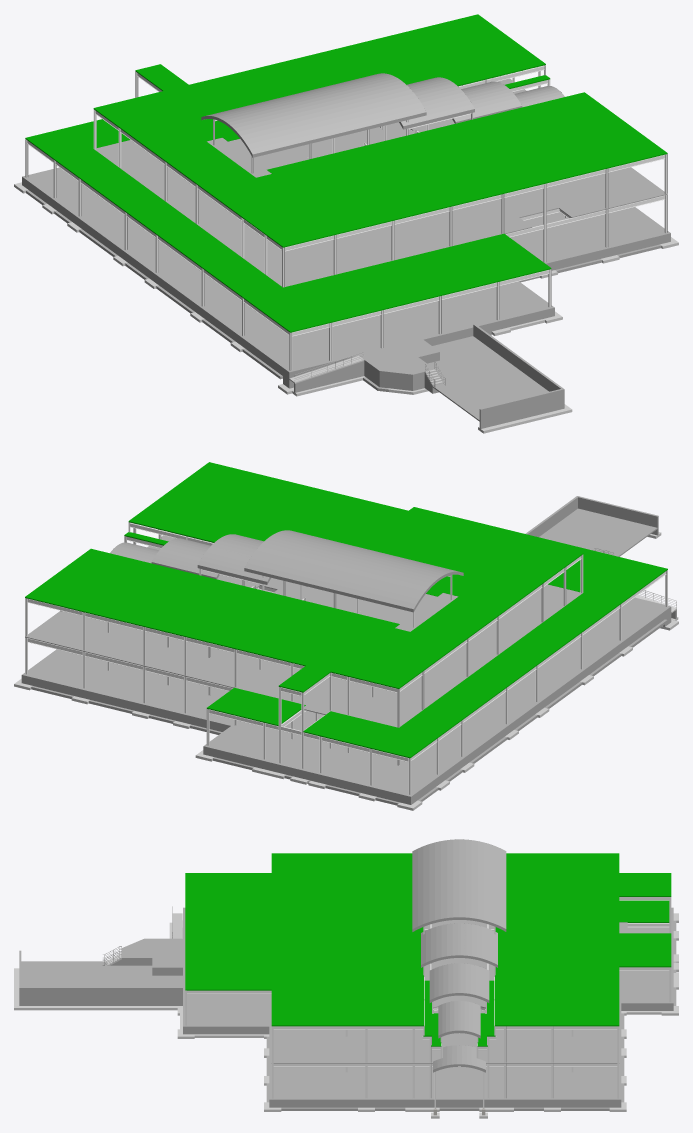
3 views of the same model, one above another, from view 1: azimuth 30°, elevation 25°; view 2: azimuth 150°, elevation 25°; view 3: azimuth 270°, elevation 25° (orthographic). The views are drawn at different scales.
Parts seen in each view (by area): view 1: 22_kIllv127wWuzeSbBoPm, 2oJ$jhEMn3nhAqn0NbtYKu, 2XnCNfbvb5mfgxvK1MPFfM, 3yX498NoH6cAogvPd4Mk$Y, 0rgLSgKBf54Qc3od1vyY2Z, 1lGrrtZObD3BCuxBCd$E_H, 30URw5qYD7VfcU$zAl5afl, 0rgLSgKBf54Qc3od1vyYy9, 2lH_RQeBDBG8rH6PWO_5fC, 31f4fEYc5F6fw4dve_O20g, 0EBxs8wY934BfjQnQnJP9Z, 0rgLSgKBf54Qc3od1vyYzb (+7 smaller); view 2: 22_kIllv127wWuzeSbBoPm, 2XnCNfbvb5mfgxvK1MPFfM, 3yX498NoH6cAogvPd4Mk$Y, 2oJ$jhEMn3nhAqn0NbtYKu, 0rgLSgKBf54Qc3od1vyY2Z, 1lGrrtZObD3BCuxBCd$E_H, 30URw5qYD7VfcU$zAl5afl, 3saVcraO9CJRqkF0xoe8dT, 3saVcraO9CJRqkF0xoe8zy, 0rgLSgKBf54Qc3od1vyYy9, 0VsgkmPnbAuO2d6$Acv6Id, 0EBxs8wY934BfjQnQnJP9Z (+6 smaller); view 3: 22_kIllv127wWuzeSbBoPm, 2XnCNfbvb5mfgxvK1MPFfM, 2oJ$jhEMn3nhAqn0NbtYKu, 3yX498NoH6cAogvPd4Mk$Y, 0rgLSgKBf54Qc3od1vyY2Z, 1lGrrtZObD3BCuxBCd$E_H, 3saVcraO9CJRqkF0xoe8_j, 31f4fEYc5F6fw4dve_O27F, 0rgLSgKBf54Qc3od1vyYy9, 0rgLSgKBf54Qc3od1vyYzb, 0VsgkmPnbAuO2d6$Acv6Id, 2lH_RQeBDBG8rH6PWO_5fC (+7 smaller).
Boxes of the visible parts, <box> form: 22_kIllv127wWuzeSbBoPm: <box>93,14,667,247</box>; 2oJ$jhEMn3nhAqn0NbtYKu: <box>25,119,551,332</box>; 2XnCNfbvb5mfgxvK1MPFfM: <box>26,122,667,370</box>; 3yX498NoH6cAogvPd4Mk$Y: <box>94,75,667,287</box>; 0rgLSgKBf54Qc3od1vyY2Z: <box>201,73,426,157</box>; 1lGrrtZObD3BCuxBCd$E_H: <box>427,336,548,421</box>; 30URw5qYD7VfcU$zAl5afl: <box>22,176,284,375</box>; 0rgLSgKBf54Qc3od1vyYy9: <box>399,77,474,129</box>; 2lH_RQeBDBG8rH6PWO_5fC: <box>359,339,439,375</box>; 31f4fEYc5F6fw4dve_O20g: <box>479,389,562,428</box>; 0EBxs8wY934BfjQnQnJP9Z: <box>207,137,309,177</box>; 0rgLSgKBf54Qc3od1vyYzb: <box>452,81,522,123</box>; 22_kIllv127wWuzeSbBoPm: <box>25,462,583,692</box>; 2XnCNfbvb5mfgxvK1MPFfM: <box>25,589,666,795</box>; 3yX498NoH6cAogvPd4Mk$Y: <box>25,532,581,727</box>; 2oJ$jhEMn3nhAqn0NbtYKu: <box>303,507,667,758</box>; 0rgLSgKBf54Qc3od1vyY2Z: <box>244,530,463,612</box>; 1lGrrtZObD3BCuxBCd$E_H: <box>539,508,657,556</box>; 30URw5qYD7VfcU$zAl5afl: <box>409,610,664,804</box>; 3saVcraO9CJRqkF0xoe8dT: <box>203,745,409,804</box>; 3saVcraO9CJRqkF0xoe8zy: <box>21,674,231,731</box>; 0rgLSgKBf54Qc3od1vyYy9: <box>197,534,270,584</box>; 0VsgkmPnbAuO2d6$Acv6Id: <box>206,687,305,726</box>; 0EBxs8wY934BfjQnQnJP9Z: <box>358,593,458,631</box>; 22_kIllv127wWuzeSbBoPm: <box>271,853,671,1026</box>; 2XnCNfbvb5mfgxvK1MPFfM: <box>185,909,669,1098</box>; 2oJ$jhEMn3nhAqn0NbtYKu: <box>185,873,671,990</box>; 3yX498NoH6cAogvPd4Mk$Y: <box>271,920,627,1063</box>; 0rgLSgKBf54Qc3od1vyY2Z: <box>412,839,506,931</box>; 1lGrrtZObD3BCuxBCd$E_H: <box>21,961,182,987</box>; 3saVcraO9CJRqkF0xoe8_j: <box>269,1098,619,1107</box>; 31f4fEYc5F6fw4dve_O27F: <box>19,987,182,1005</box>; 0rgLSgKBf54Qc3od1vyYy9: <box>421,923,497,967</box>; 0rgLSgKBf54Qc3od1vyYzb: <box>429,963,489,1002</box>; 0VsgkmPnbAuO2d6$Acv6Id: <box>619,933,671,967</box>; 2lH_RQeBDBG8rH6PWO_5fC: <box>122,938,182,968</box>.
Bounding box in the file's own units: 55.69 × 16.02 × 77.1.
